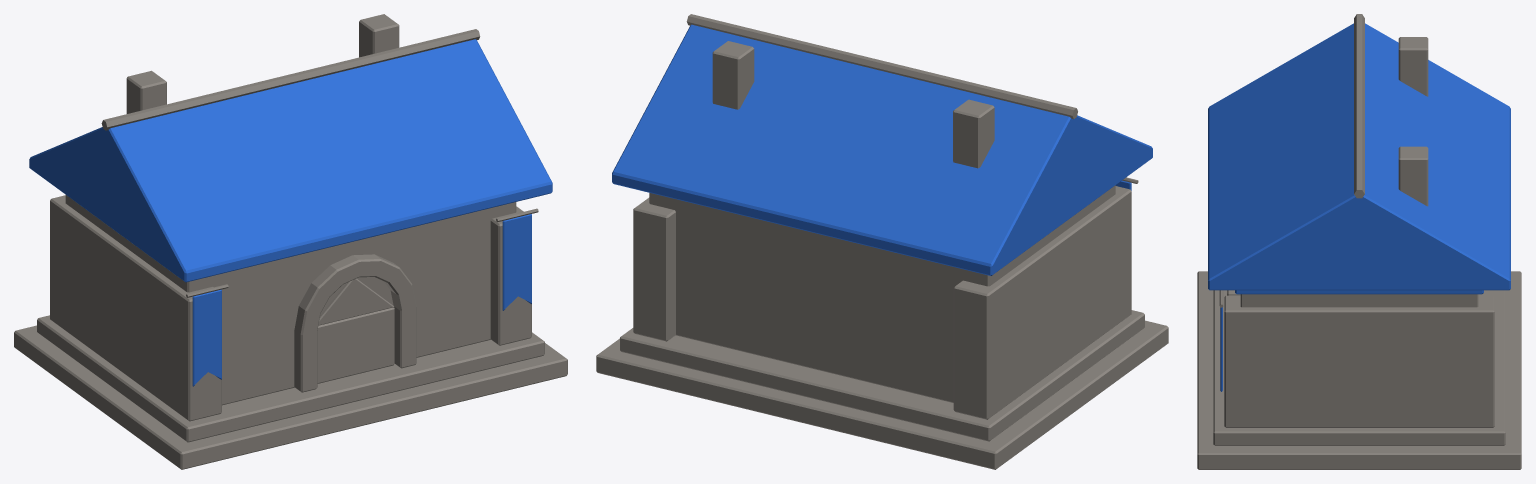
File: barracks.obj
The picture shows the model from 3 angles, left to right: view 1: azimuth 30°, elevation 25°; view 2: azimuth 150°, elevation 25°; view 3: azimuth 270°, elevation 25°; orthographic projection. The views are drawn at different scales.
Parts seen in each view (by area): view 1: barracks; view 2: barracks; view 3: barracks.
Boxes of the visible parts, x1=… form: barracks: x1=14, y1=14, x2=567, y2=469; barracks: x1=596, y1=14, x2=1168, y2=469; barracks: x1=1197, y1=14, x2=1521, y2=469.
Size of the model in its own units: 8 by 5.75 by 6.
